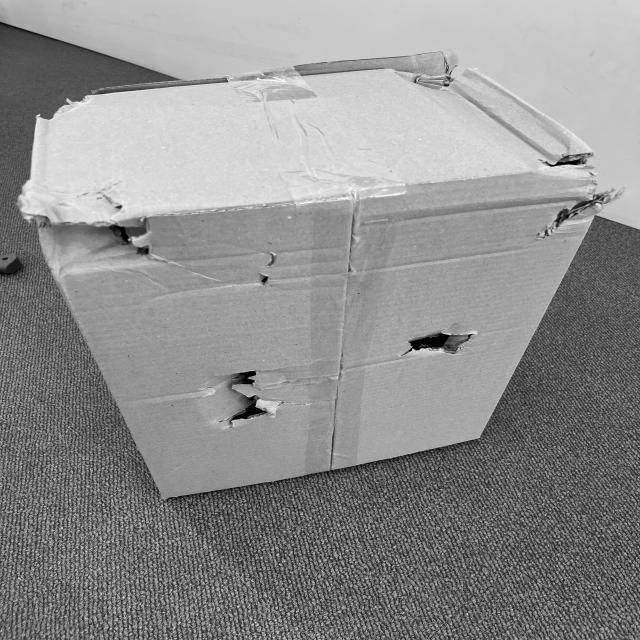hole: (58, 193, 158, 269), (531, 145, 612, 231), (204, 368, 280, 432), (410, 329, 478, 359)
